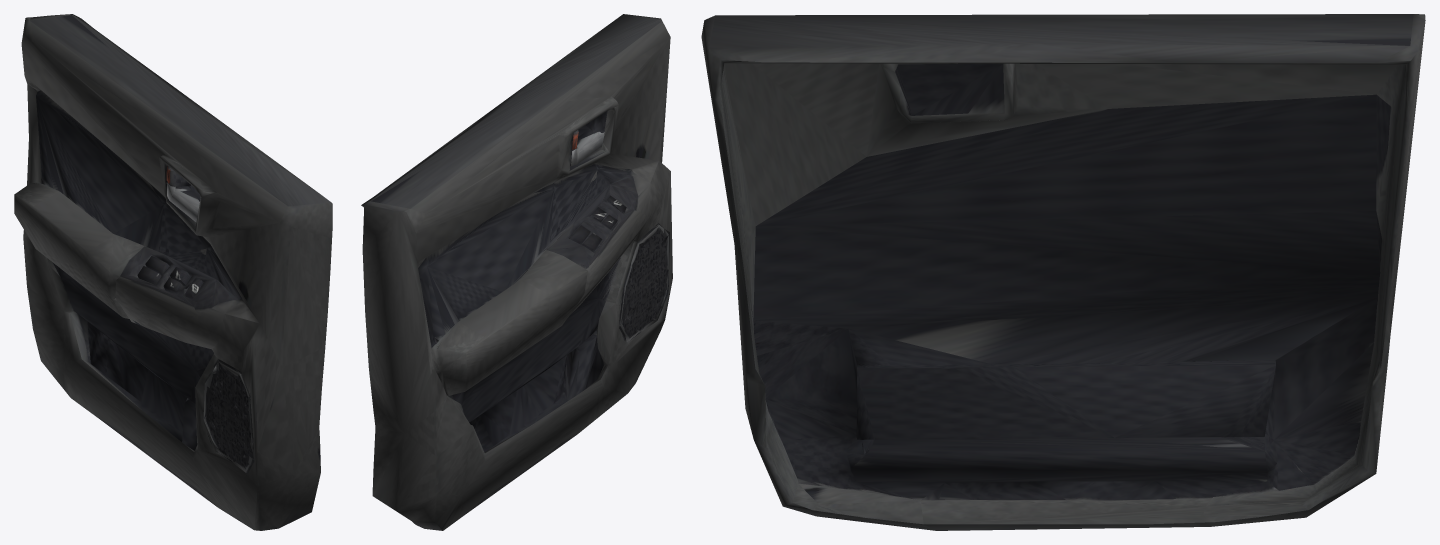
The model's file is SM_Ini_CarDoorPanel.fbx.
3 views of the same model, side by side, from view 1: azimuth 30°, elevation 25°; view 2: azimuth 150°, elevation 25°; view 3: azimuth 270°, elevation 25° (orthographic). The views are drawn at different scales.
Parts seen in each view (by area): view 1: CarDoorPanel; view 2: CarDoorPanel; view 3: CarDoorPanel.
Boxes of the visible parts, x1,y1,x2,y2 form: CarDoorPanel: (14, 14, 332, 530); CarDoorPanel: (361, 14, 672, 530); CarDoorPanel: (701, 14, 1425, 530).
Size of the model in its own units: 0.2254 by 0.7502 by 1.
Materials: 1 (1 with a texture image).
